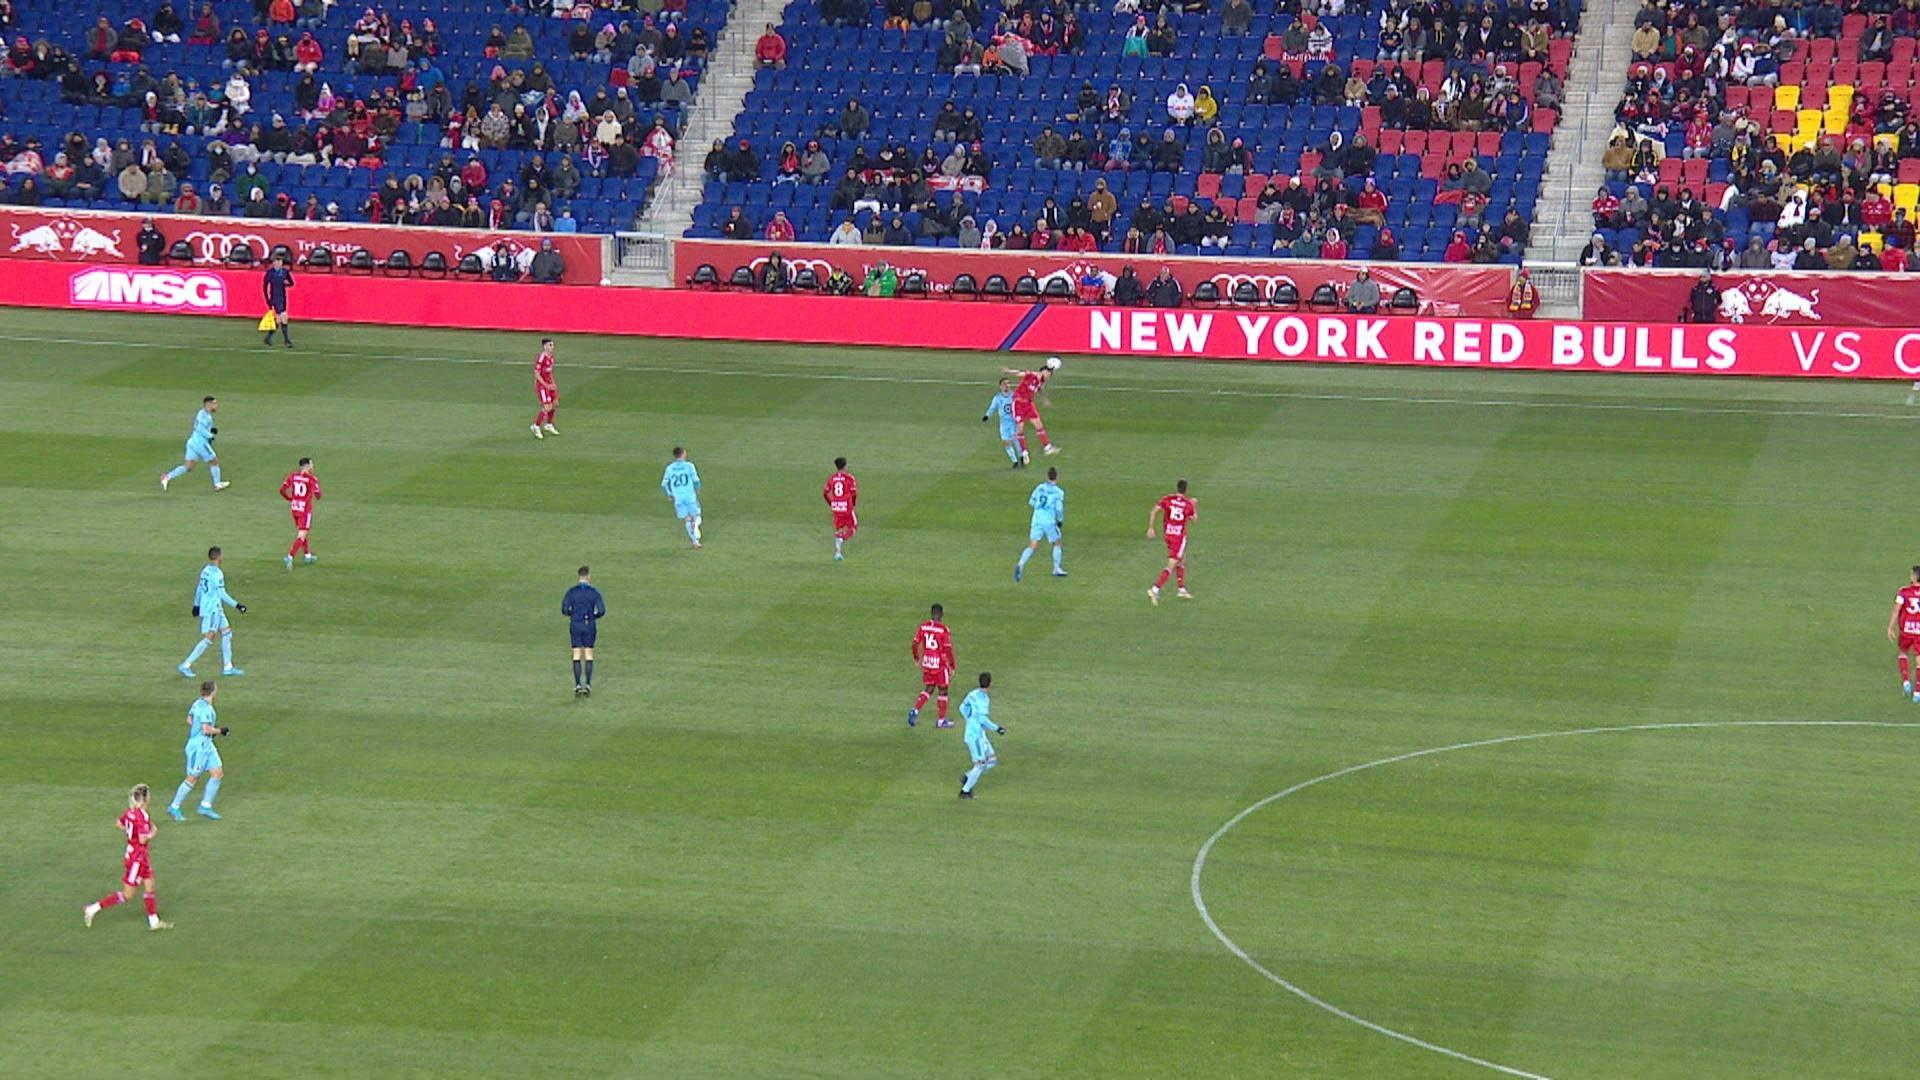football: (1047, 358, 1062, 367)
